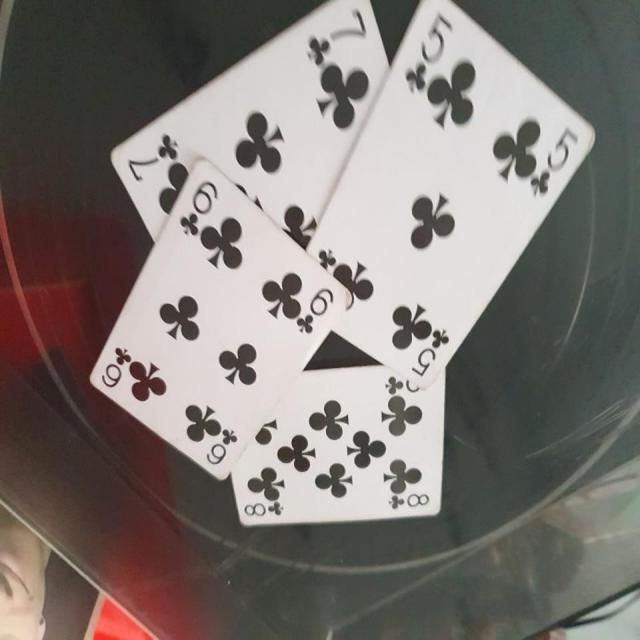5 of clubs: (308, 0, 596, 393)
6 of clubs: (88, 157, 353, 483)
7 of clubs: (109, 0, 397, 245)
8 of clubs: (232, 363, 449, 529)
